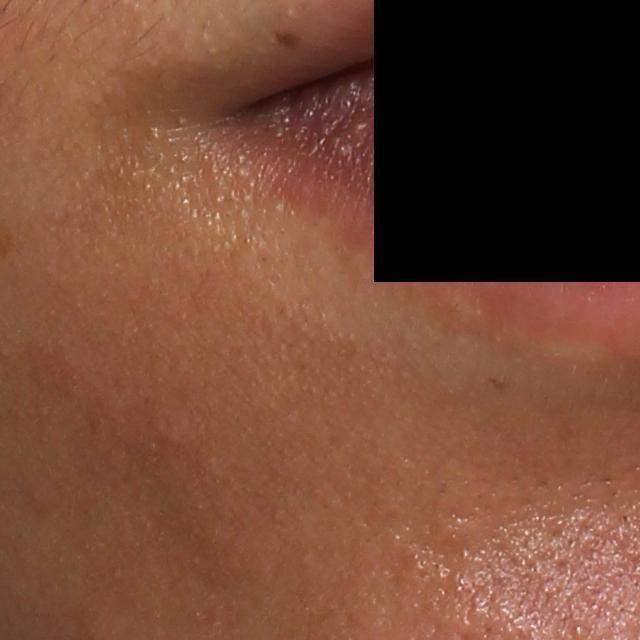nevus: (274, 28, 303, 51)
